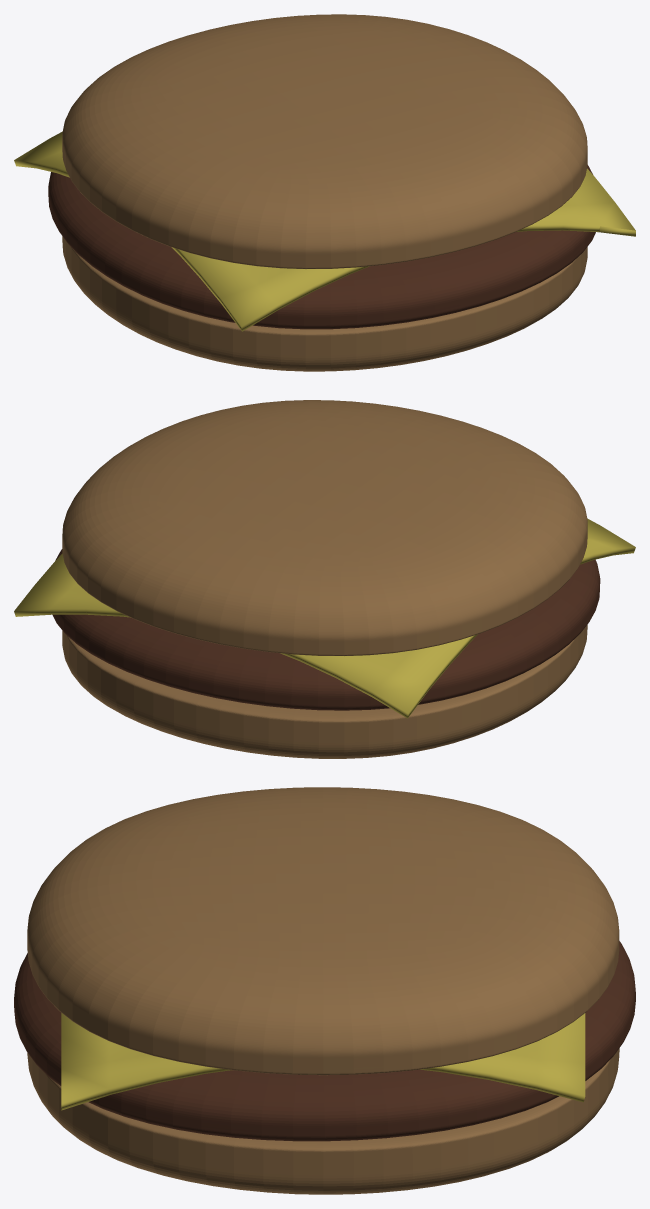
The model's file is hamburger.glb.
3 renders of one model, top to bottom at view 1: azimuth 30°, elevation 25°; view 2: azimuth 150°, elevation 25°; view 3: azimuth 270°, elevation 25°, orthographic. The views are drawn at different scales.
Visible parts, largest first — view 1: Cube.002, Cube.001, Cube, Plane; view 2: Cube.002, Cube.001, Cube, Plane; view 3: Cube.002, Cube.001, Cube, Plane.
Boxes of the visible parts, <box> form: Cube.002: <box>62,14,587,268</box>; Cube.001: <box>48,165,595,329</box>; Cube: <box>62,236,587,371</box>; Plane: <box>14,131,635,331</box>; Cube.002: <box>62,400,587,655</box>; Cube.001: <box>52,549,600,710</box>; Cube: <box>62,625,587,758</box>; Plane: <box>14,518,635,718</box>; Cube.002: <box>27,787,619,1075</box>; Cube.001: <box>14,941,635,1141</box>; Cube: <box>27,1048,619,1194</box>; Plane: <box>61,1013,585,1110</box>.
Size of the model in its own units: 6.41 by 2.59 by 6.41.
